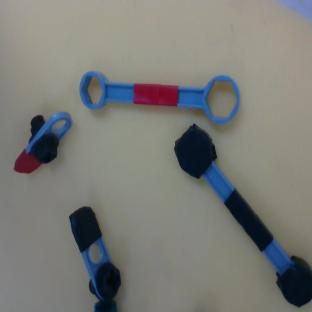part_1_bad: (59, 203, 128, 306)
part_1_good: (7, 99, 76, 184)
part_3_good: (79, 71, 240, 123)
